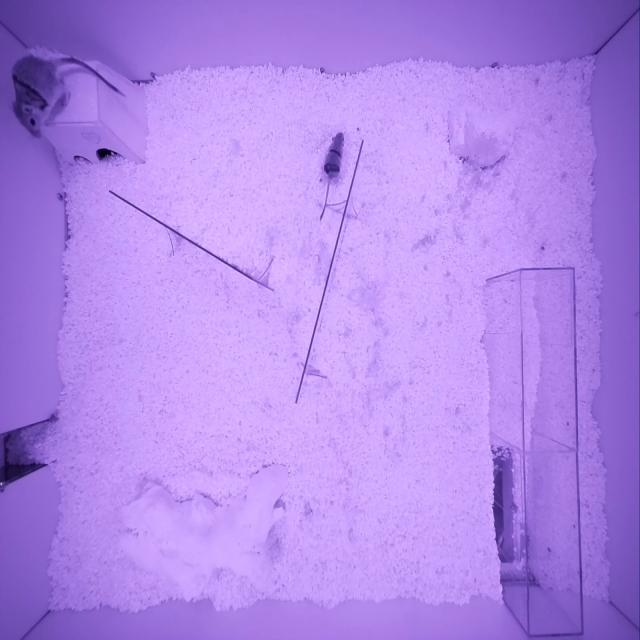adult_front: (12, 53, 69, 138)
pup_h_stripe: (324, 132, 345, 180)
